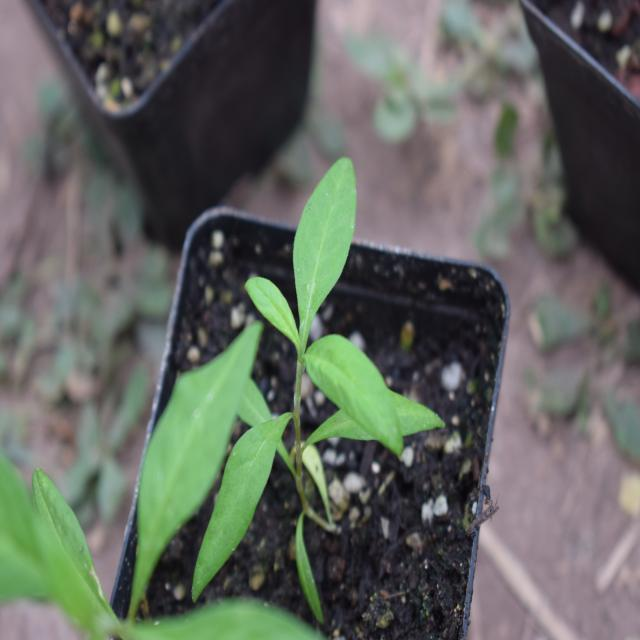white_smart_weed: (138, 172, 416, 544)
